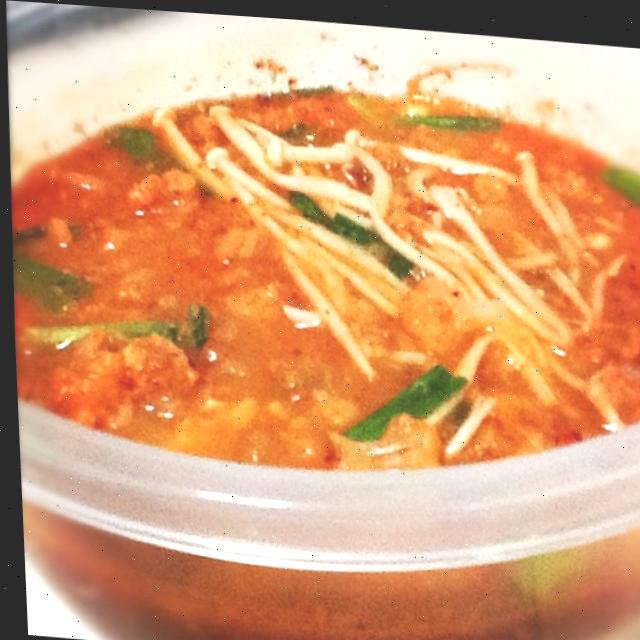汤锅炖物: (22, 45, 640, 640)
